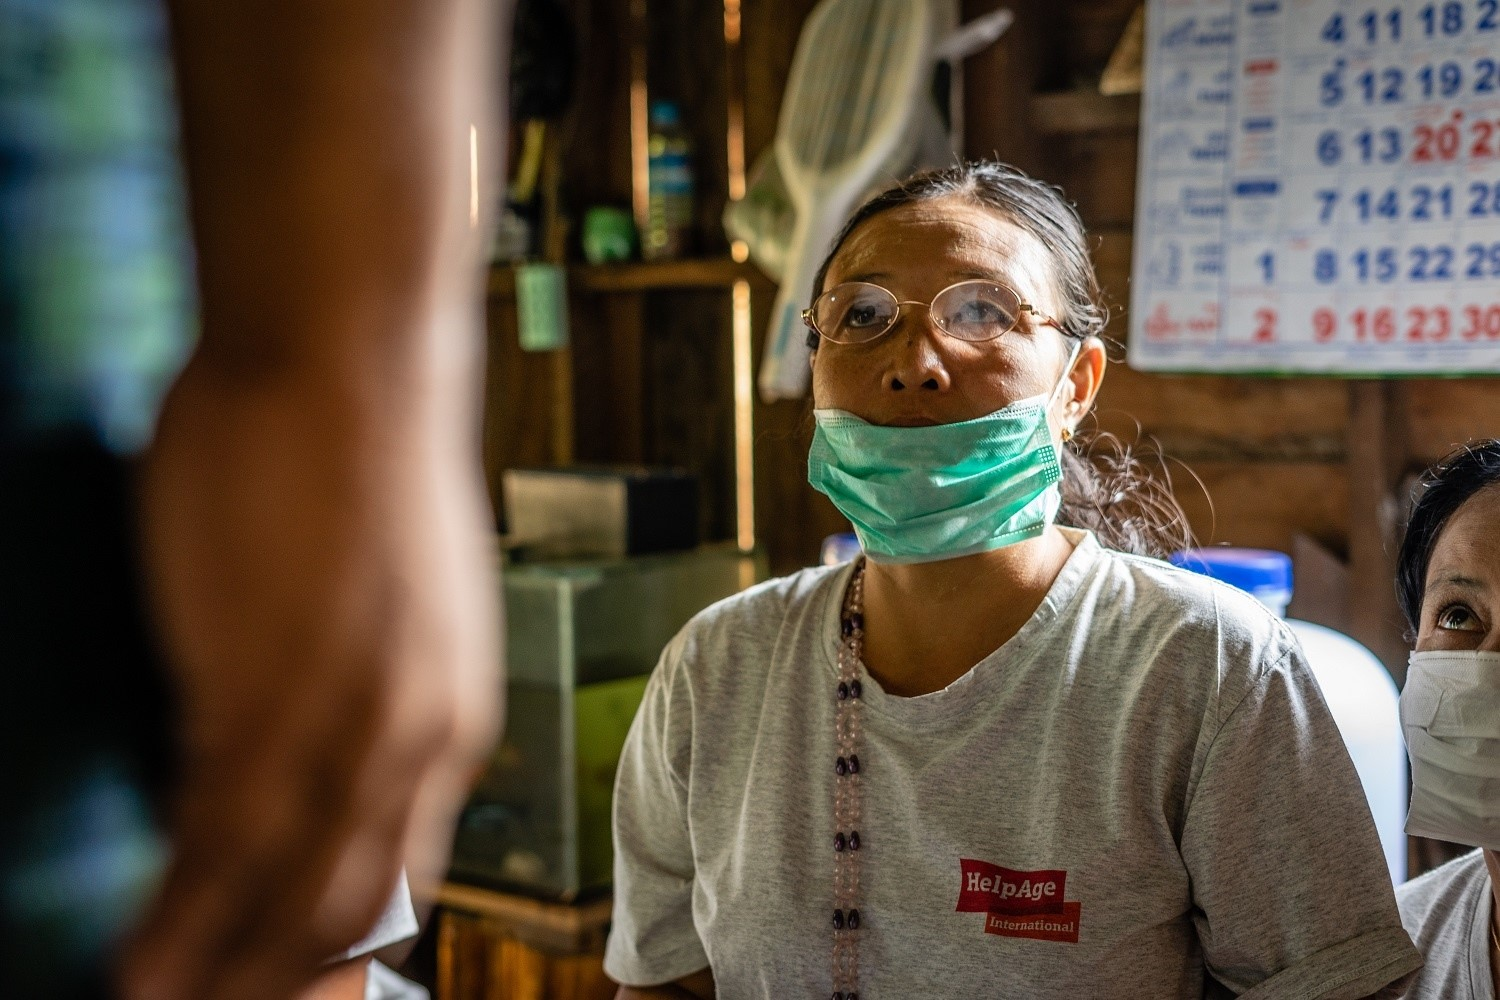face_with_mask: (780, 192, 1111, 601), (1365, 415, 1500, 879)
